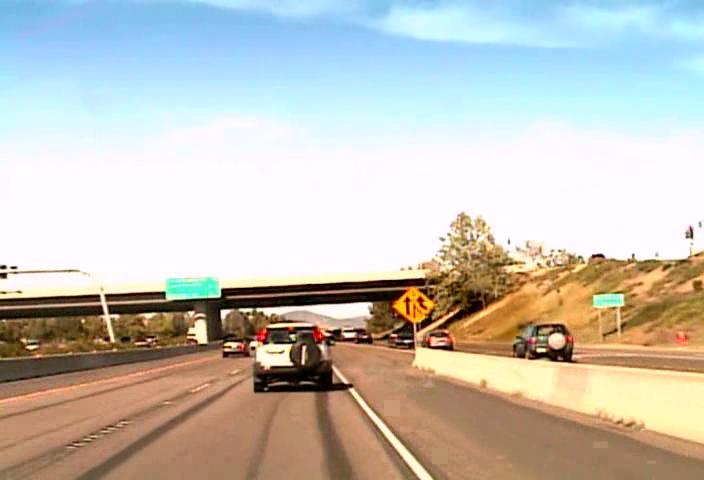addedLane: (392, 286, 435, 324)
